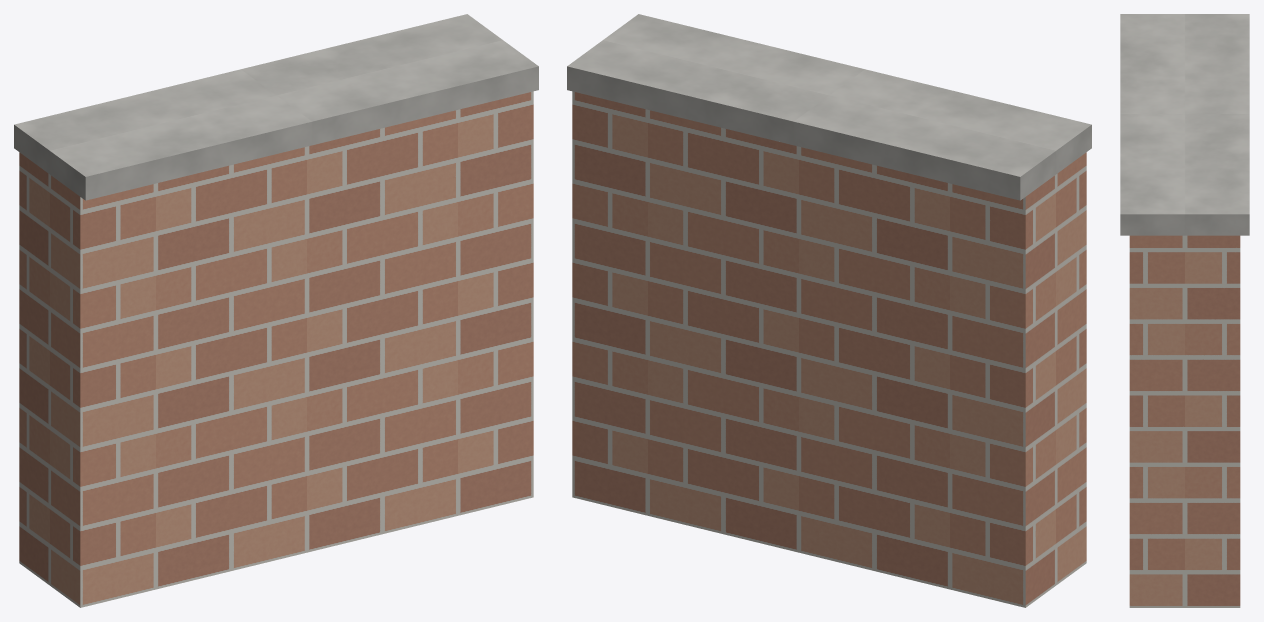
The model's file is 벽돌담.fbx.
3 views of the same model, side by side, from view 1: azimuth 30°, elevation 25°; view 2: azimuth 150°, elevation 25°; view 3: azimuth 270°, elevation 25° (orthographic). The views are drawn at different scales.
Parts seen in each view (by area): view 1: 벽돌담; view 2: 벽돌담; view 3: 벽돌담.
Boxes of the visible parts, x1,y1,x2,y2 form: 벽돌담: (14,14,538,607); 벽돌담: (567,14,1091,607); 벽돌담: (1120,14,1249,607).
Bounding box in the file's own units: 600 × 550 × 164.
2 materials, 2 textured.
